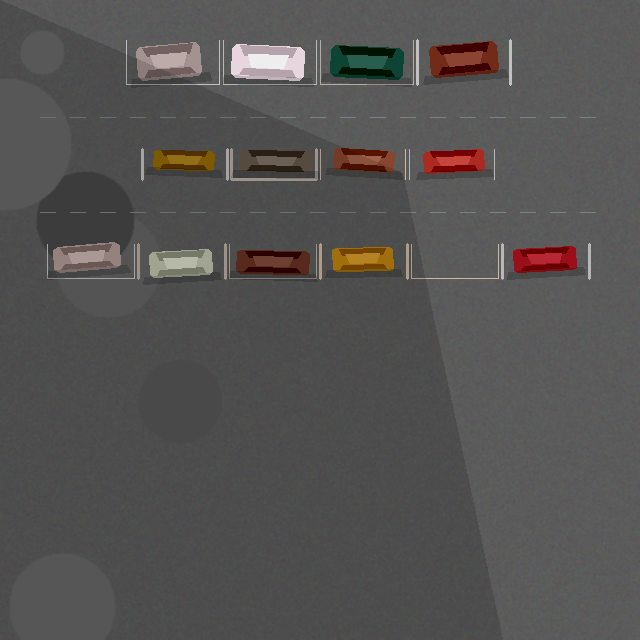space-empty: (411, 244, 498, 278)
space-occupied: (126, 40, 219, 84), (223, 40, 316, 84), (320, 40, 413, 84), (417, 40, 510, 84), (47, 244, 134, 278), (138, 244, 225, 278), (229, 244, 316, 278), (320, 244, 407, 278), (502, 244, 589, 278), (142, 149, 227, 179), (231, 149, 316, 179), (320, 149, 405, 179), (409, 149, 494, 179)
